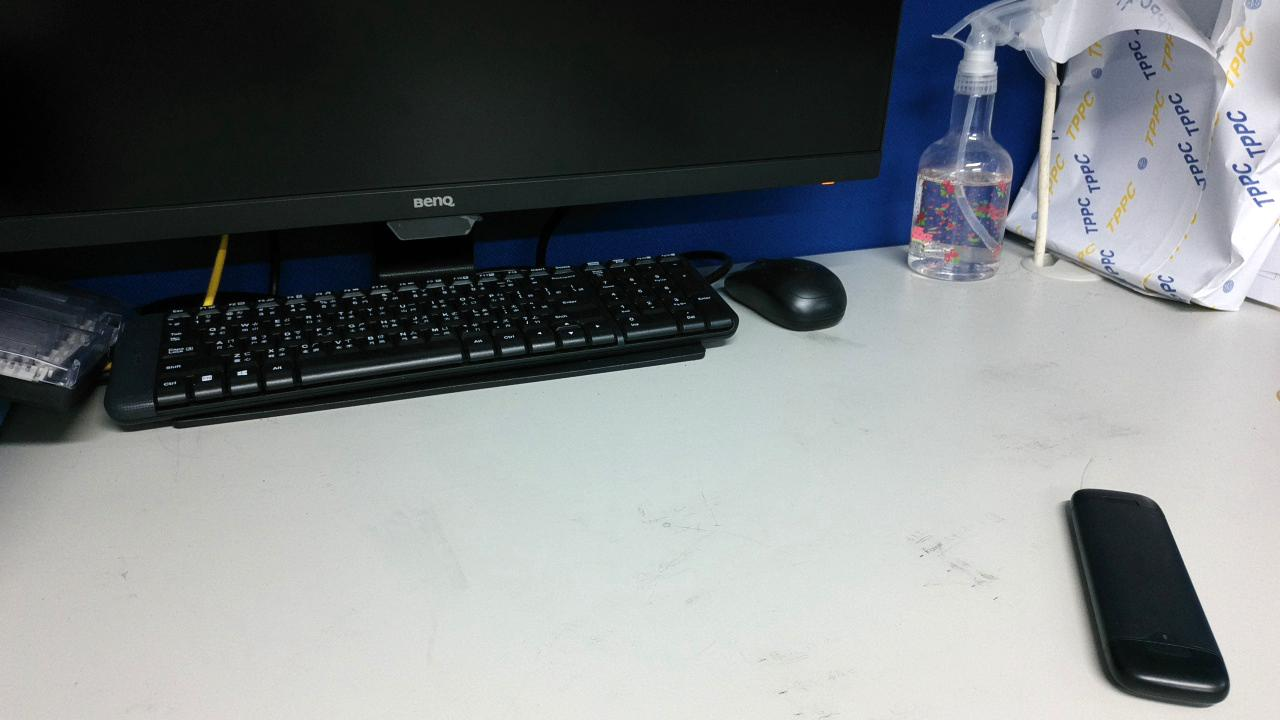blade: (965, 364, 1006, 396)
grasp: (960, 309, 1094, 382)
